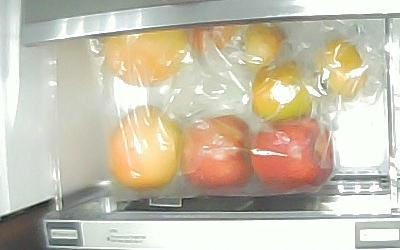apple_vinyl: (250, 116, 334, 192), (181, 115, 251, 191)
grapefruit_vinyl: (108, 105, 180, 190), (103, 29, 188, 85)
persimmon_vinyl: (251, 59, 312, 122), (316, 39, 365, 99)
prune_vinyl: (188, 24, 243, 62), (243, 23, 285, 67)
